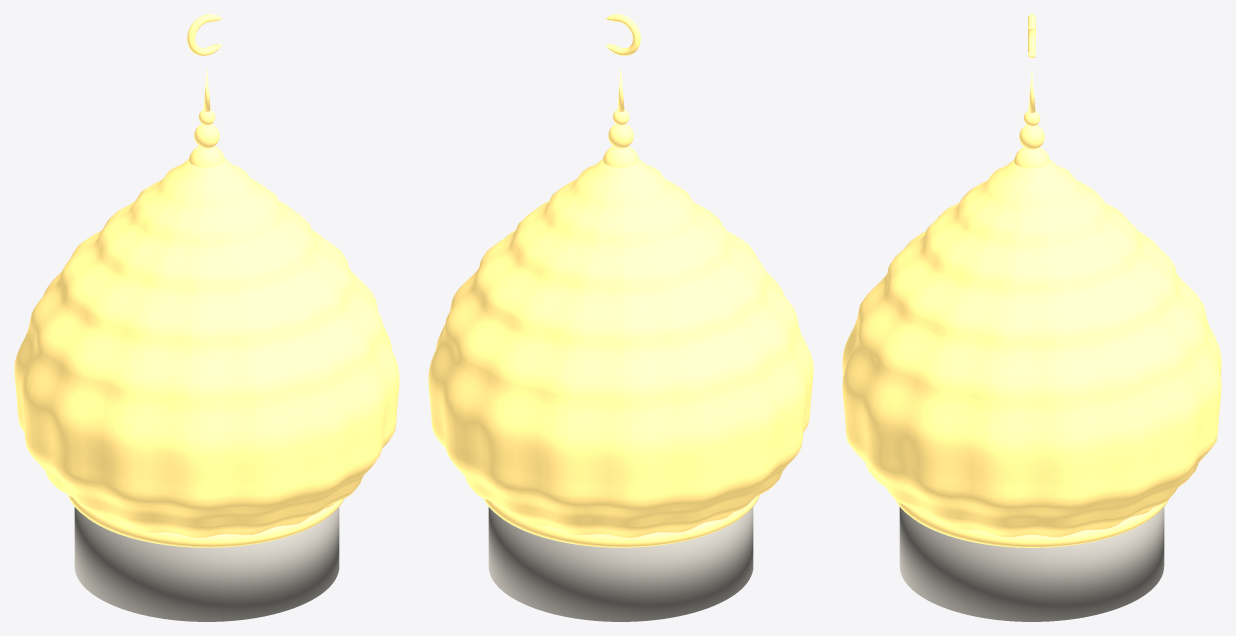
The model's file is dome_onion.glb.
The picture shows the model from 3 angles, left to right: view 1: azimuth 30°, elevation 25°; view 2: azimuth 150°, elevation 25°; view 3: azimuth 270°, elevation 25°; orthographic projection.
Visible parts, largest first — view 1: onion; view 2: onion; view 3: onion.
Boxes of the visible parts, box(x1,y1,x2,y2) form: onion: box(14, 14, 399, 621); onion: box(428, 14, 813, 621); onion: box(842, 14, 1221, 621).
Bounding box in the file's own units: 2.07 × 3.31 × 2.07.
